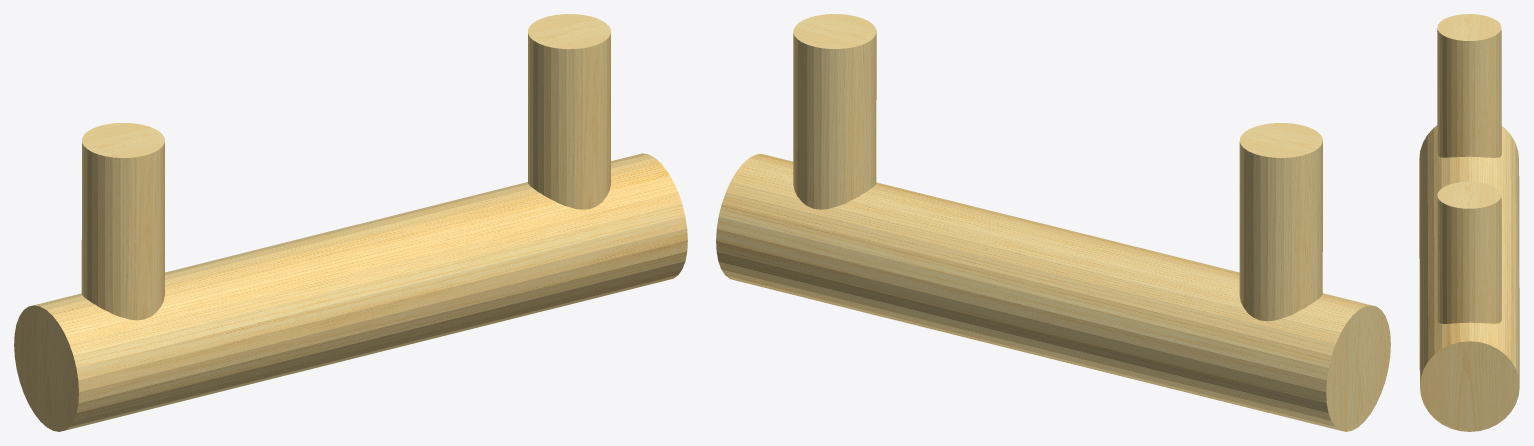
File: wooden_cabinet_top_handle.obj
3 views of the same model, side by side, from view 1: azimuth 30°, elevation 25°; view 2: azimuth 150°, elevation 25°; view 3: azimuth 270°, elevation 25° (orthographic). The views are drawn at different scales.
Parts seen in each view (by area): view 1: Cylinder.002, Cylinder.001, Cylinder; view 2: Cylinder.002, Cylinder.001, Cylinder; view 3: Cylinder.002, Cylinder.001, Cylinder.
Boxes of the visible parts, x1,y1,x2,y2 form: Cylinder.002: [14, 153, 687, 431]; Cylinder.001: [81, 123, 164, 320]; Cylinder: [528, 14, 610, 209]; Cylinder.002: [716, 154, 1390, 431]; Cylinder.001: [1239, 123, 1322, 321]; Cylinder: [793, 14, 876, 209]; Cylinder.002: [1419, 125, 1519, 431]; Cylinder.001: [1437, 14, 1501, 157]; Cylinder: [1437, 181, 1501, 323].
Size of the model in its own units: 1.78 by 0.7459 by 0.3291.
